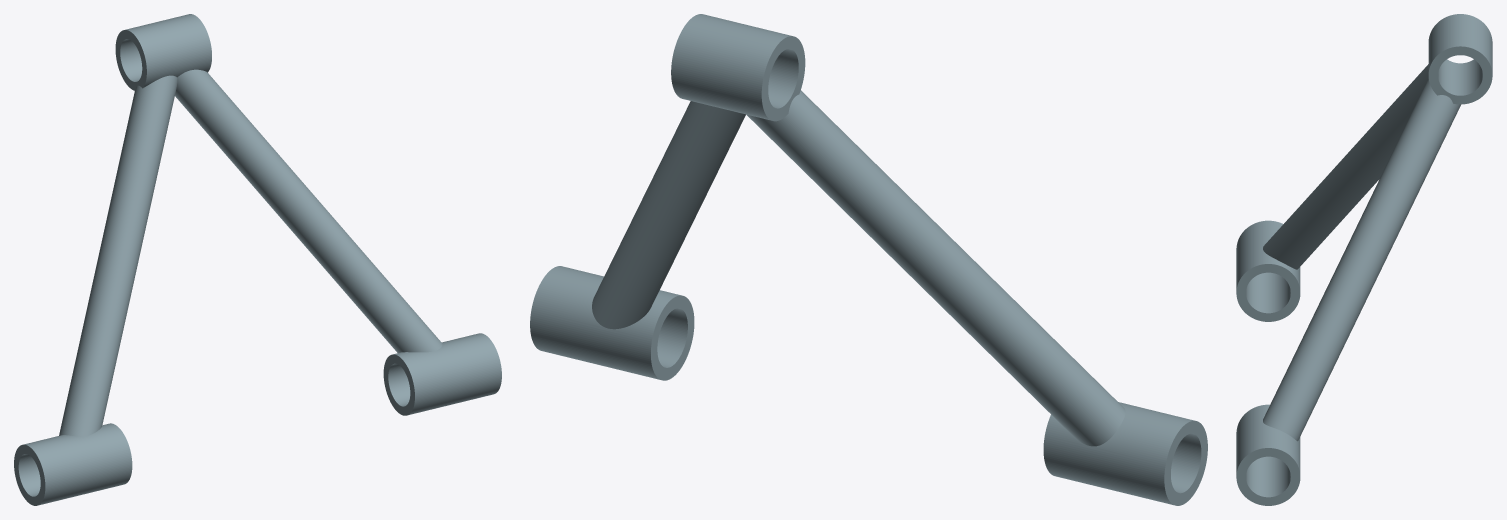
Rendered from upper_wishbone_C02_R01.glb.
3 views of the same model, side by side, from view 1: azimuth 30°, elevation 25°; view 2: azimuth 150°, elevation 25°; view 3: azimuth 270°, elevation 25° (orthographic). The views are drawn at different scales.
Visible parts, largest first — view 1: upper_wishbone_C02_R01; view 2: upper_wishbone_C02_R01; view 3: upper_wishbone_C02_R01.
Boxes of the visible parts, bbox=[...] form: upper_wishbone_C02_R01: bbox=[14, 14, 501, 505]; upper_wishbone_C02_R01: bbox=[530, 14, 1207, 505]; upper_wishbone_C02_R01: bbox=[1236, 14, 1492, 505].
Size of the model in its own units: 0.42 by 0.312 by 0.2.
